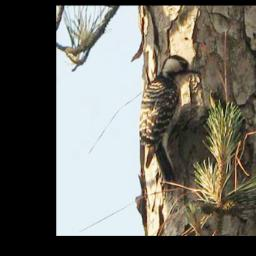Woodpecker: (138, 54, 202, 186)
